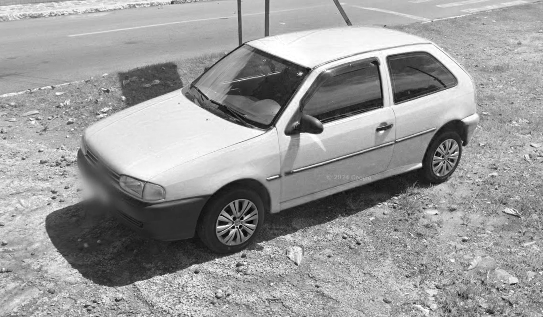car: (73, 22, 481, 258)
